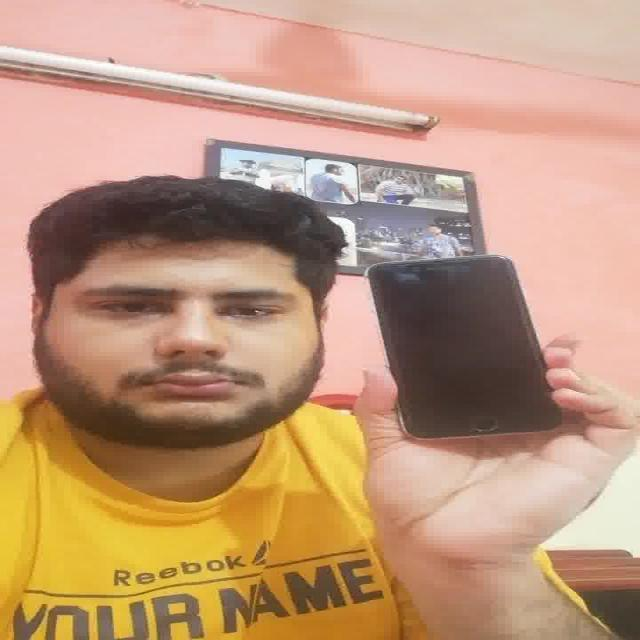phone: (365, 253, 564, 439)
